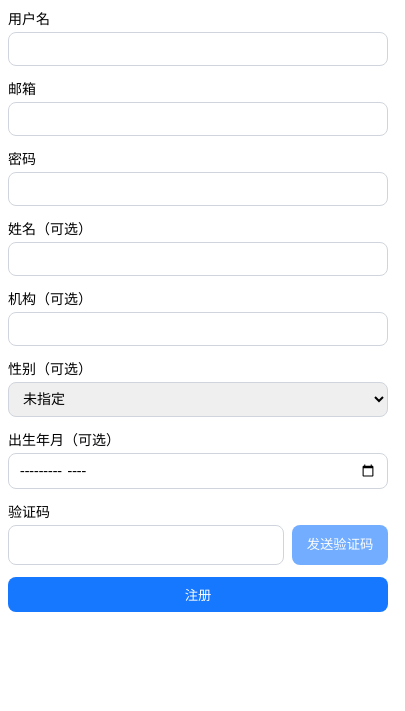
RegisterForm / ResetPasswordForm send-code UX › falls back to 120s when cooldown is missing
The width and height of the screenshot is (405, 711).
Type "ada@example.com" into the field labelled "邮箱" at [198, 119], box [8, 102, 388, 136]
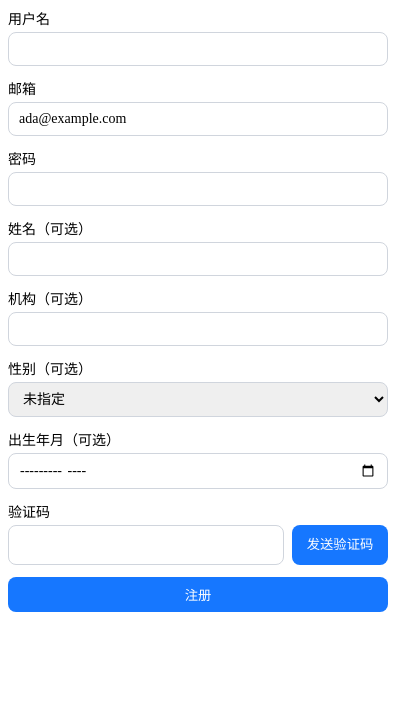
Click the button with class "ak-code-btn" at [340, 545], box [292, 525, 388, 565]
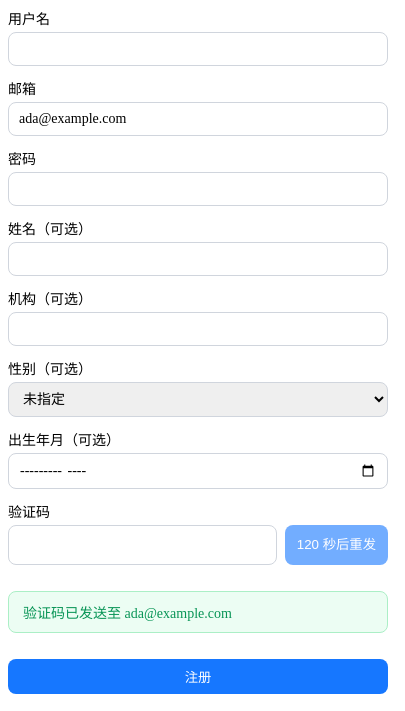
Now the button with class "ak-code-btn" reads "120 秒后重发", box [285, 525, 388, 565]
